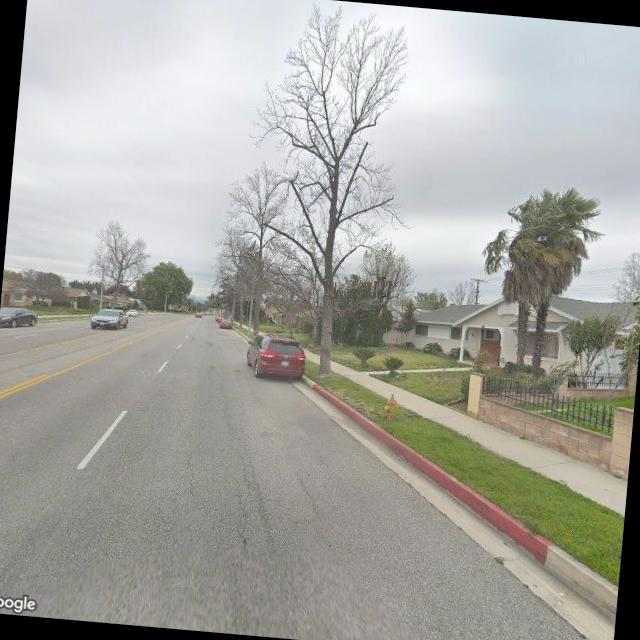pothole: (179, 450, 202, 501)
